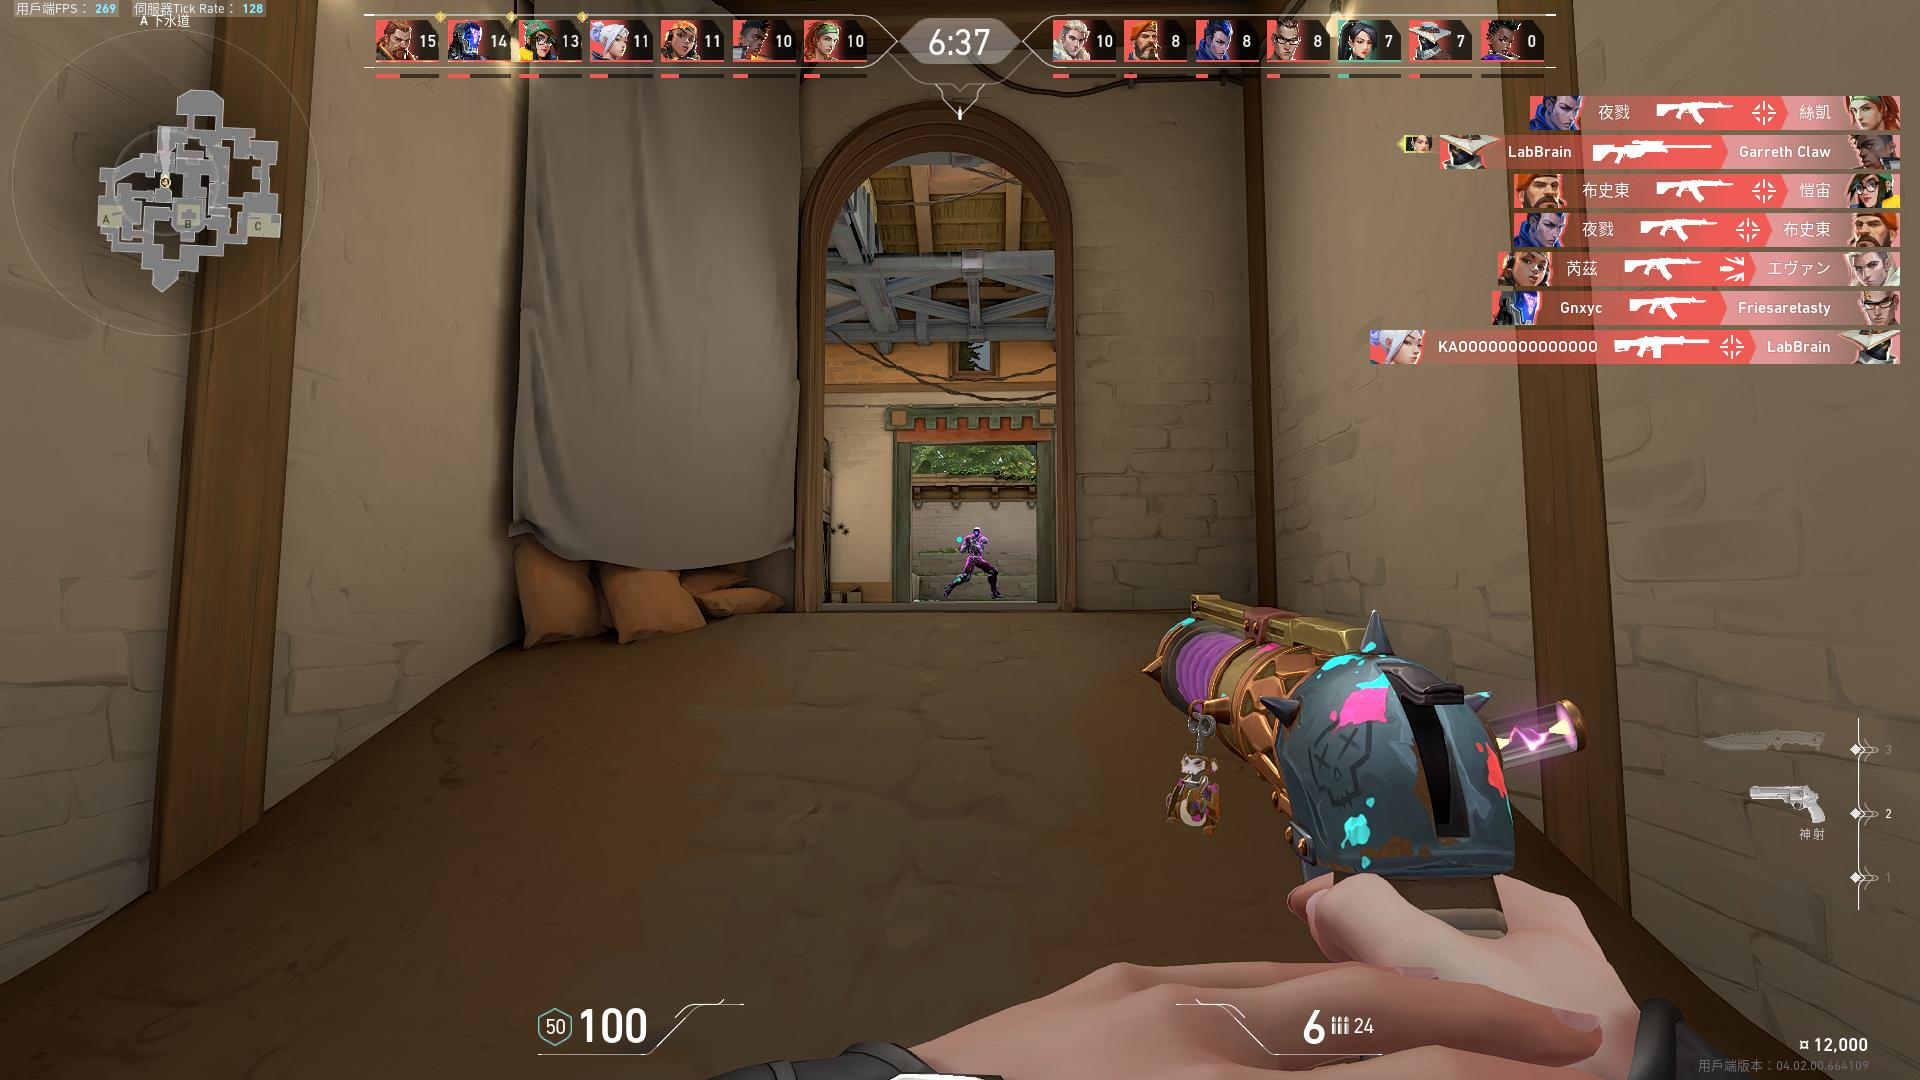enemyBody: (969, 535, 981, 558)
enemyHead: (975, 527, 978, 535)
